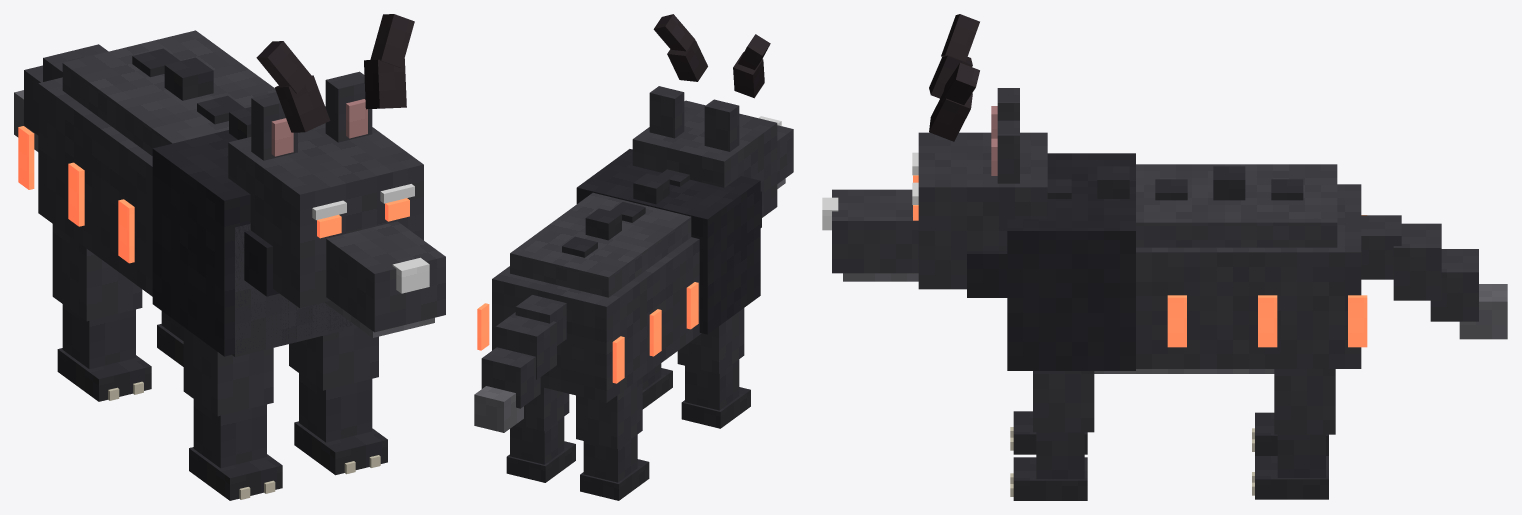
File: wolf_alpha_evo1.glb
3 views of the same model, side by side, from view 1: azimuth 30°, elevation 25°; view 2: azimuth 150°, elevation 25°; view 3: azimuth 270°, elevation 25° (orthographic). The views are drawn at different scales.
Visible parts, largest first — view 1: Torso, Head, ArmR, LegR, ArmL, LegL; view 2: Torso, Head, LegR, ArmR, LegL, ArmL; view 3: Torso, Head, LegL, ArmL, ArmR, LegR.
Part boxes in pixels (x1,y1,x2,y2): Torso: [14, 30, 357, 356]; Head: [228, 14, 445, 337]; ArmR: [183, 327, 282, 500]; LegR: [52, 224, 151, 401]; ArmL: [289, 327, 387, 475]; LegL: [157, 311, 183, 366]; Torso: [474, 149, 760, 432]; Head: [632, 14, 793, 227]; LegR: [576, 377, 649, 500]; ArmR: [677, 308, 750, 428]; LegL: [506, 387, 575, 482]; ArmL: [642, 363, 672, 409]; Torso: [1007, 153, 1507, 373]; Head: [822, 14, 1047, 297]; LegL: [1252, 369, 1335, 499]; ArmL: [1010, 371, 1094, 500]; ArmR: [1010, 411, 1087, 454]; LegR: [1252, 412, 1328, 455].
Bounding box in the file's own units: 0.7594 × 1.83 × 2.66.
15 materials, 15 textured.
